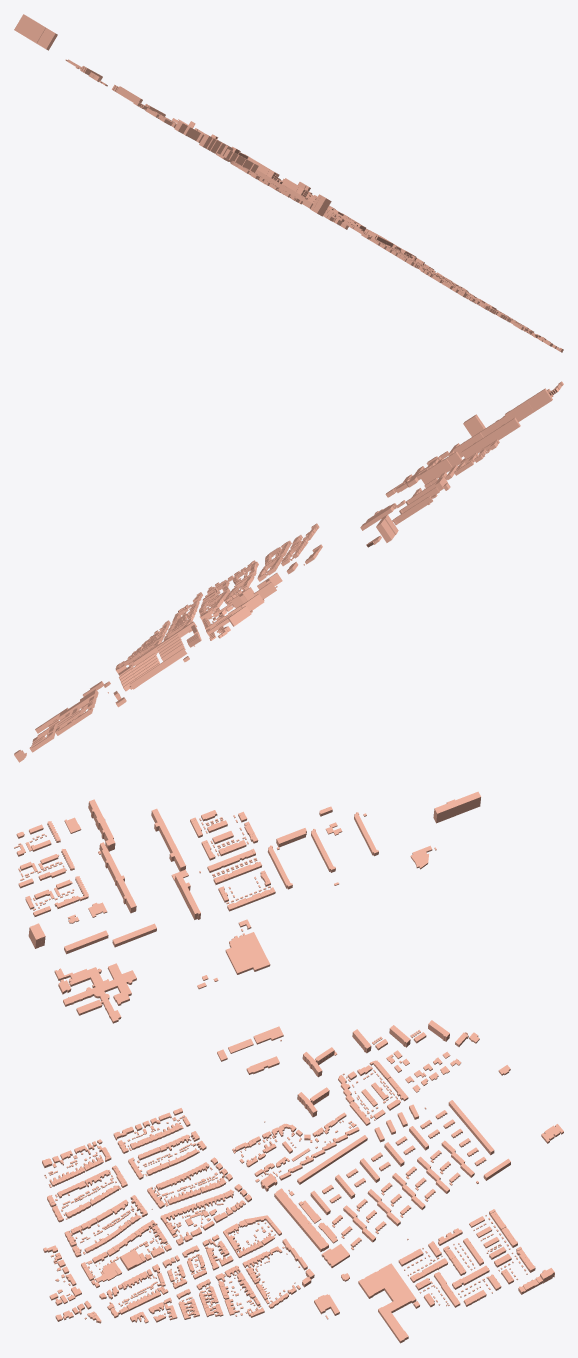
The picture shows the model from 3 angles, top to bottom: view 1: azimuth 30°, elevation 25°; view 2: azimuth 150°, elevation 25°; view 3: azimuth 270°, elevation 25°; orthographic projection. The views are drawn at different scales.
Size of the model in its own units: 1038 by 830 by 1172.
